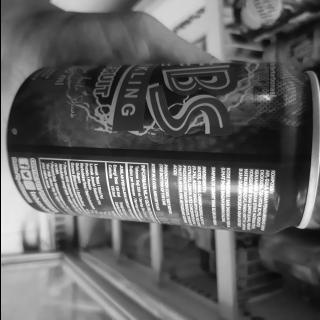alumunium_can: (10, 35, 320, 230)
